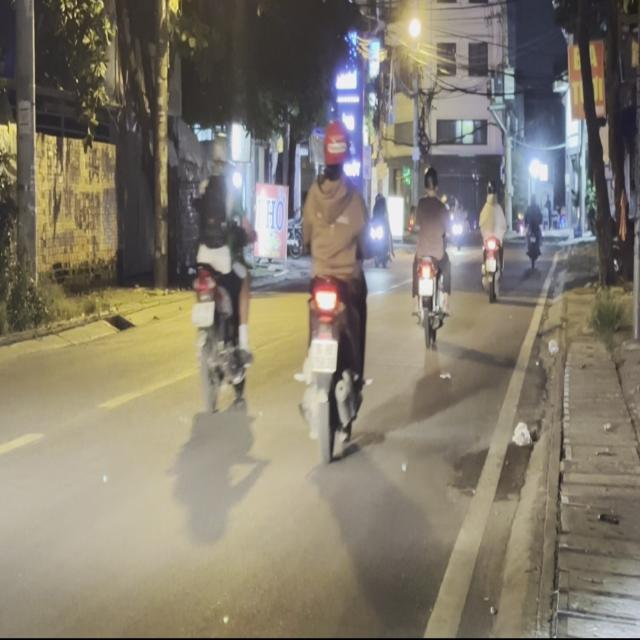helmet: (319, 118, 349, 175), (207, 134, 229, 180), (422, 164, 438, 198)
licenseplate: (294, 116, 373, 459), (187, 130, 255, 413), (407, 162, 452, 346)
nohelmet: (308, 338, 337, 371), (191, 301, 213, 325), (418, 278, 432, 294)
